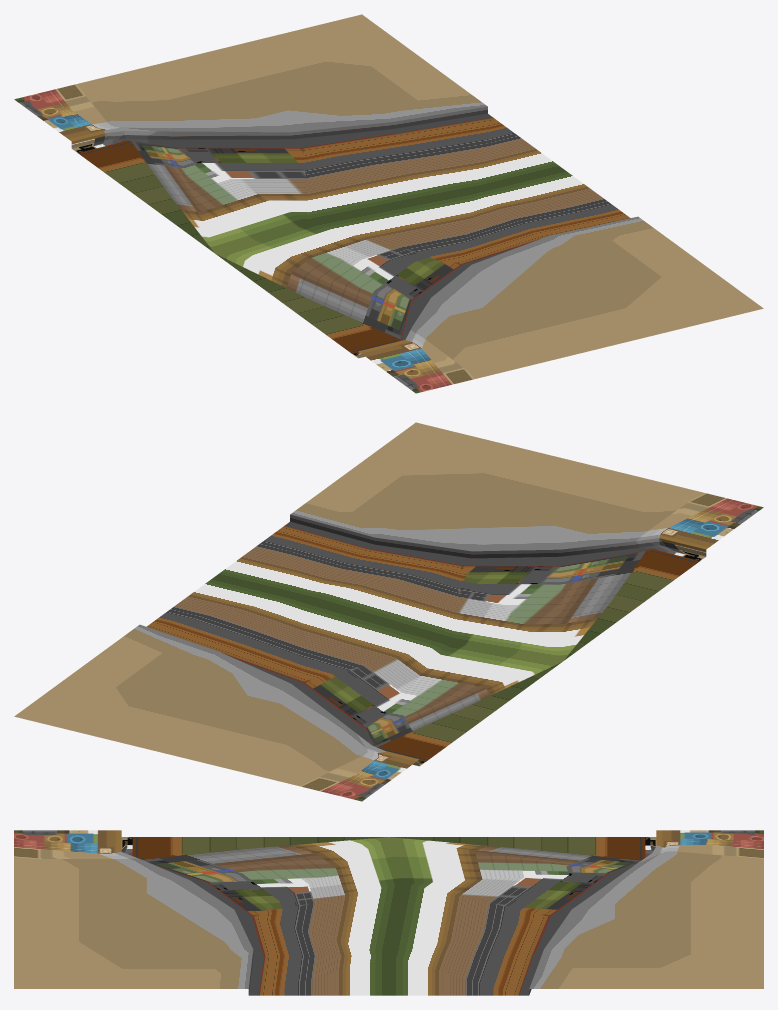
Rendered from road_Dirt_Town_Transition.gltf.
3 views of the same model, one above another, from view 1: azimuth 30°, elevation 25°; view 2: azimuth 150°, elevation 25°; view 3: azimuth 270°, elevation 25° (orthographic). The views are drawn at different scales.
Parts seen in each view (by area): view 1: road_Dirt_Town_Transition; view 2: road_Dirt_Town_Transition; view 3: road_Dirt_Town_Transition.
Part boxes in pixels (x1,y1,x2,y2): road_Dirt_Town_Transition: (14,14,763,393); road_Dirt_Town_Transition: (14,422,763,801); road_Dirt_Town_Transition: (14,830,763,995).
Bounding box in the file's own units: 10 × 0.1948 × 20.
Materials: 1 (1 with a texture image).
